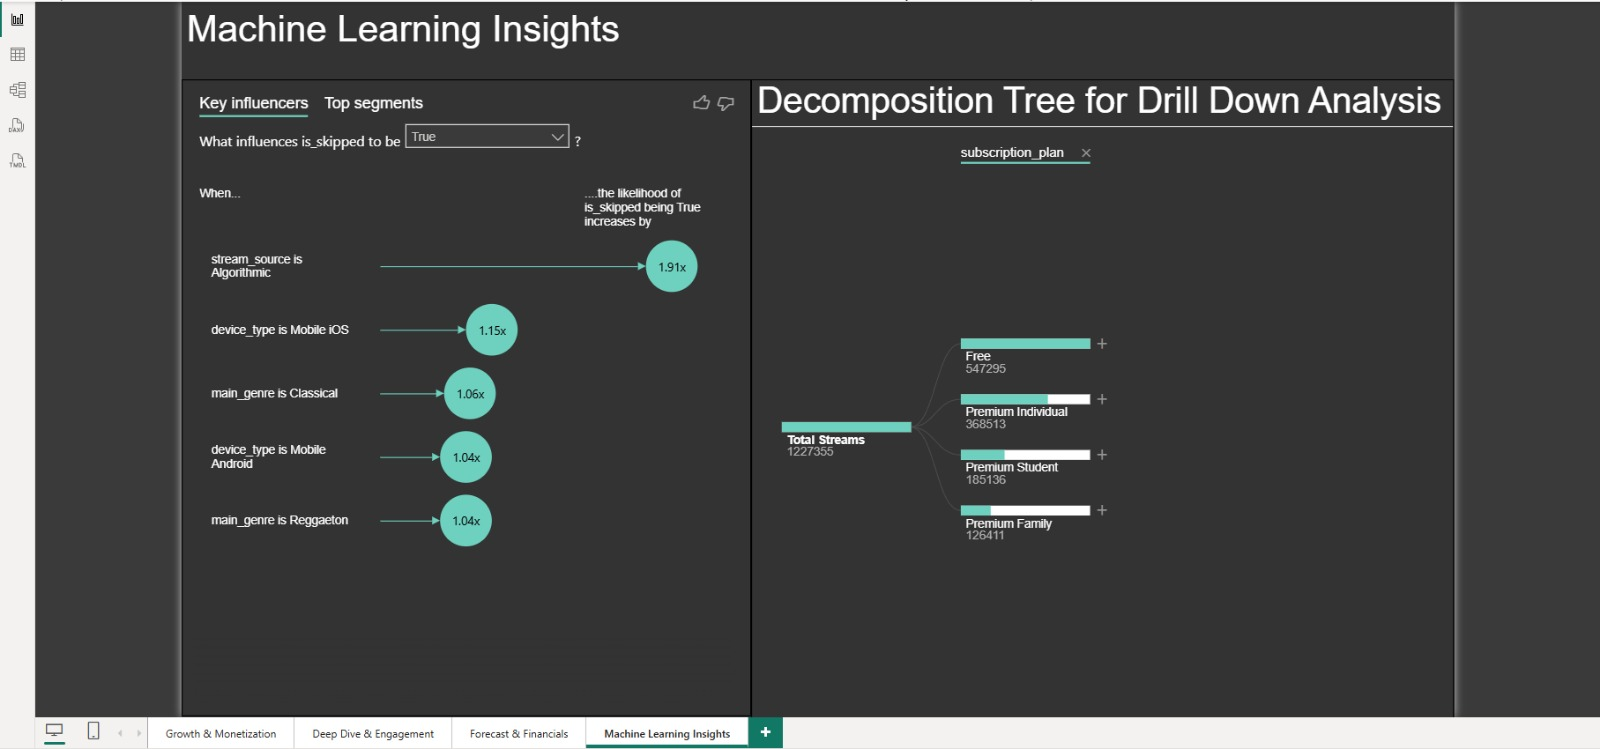

This screenshot's page, from the dashboard's own definition file:
{"tool":"powerbi","page":{"name":"Machine Learning Insights","canvas":[1280,720],"ordinal":3},"visuals":[{"type":"keyDriversVisual","title":"Key Influencers","fields":{"ExplainBy":["D_Tracks.main_genre","Sum(D_Tracks.energy)","Sum(D_Tracks.bpm)","F_Streams.device_type","F_Streams.stream_source"],"Target":["F_Streams.is_skipped"]},"box":[0,78.2,573.1,641.4],"z":0},{"type":"decompositionTreeVisual","title":"Decomposition Tree for Drill Down Analysis","fields":{"Analyze":["F_Streams.Total Streams"],"ExplainBy":["D_Users.subscription_plan","D_Platform.service_name","D_Users.country","F_Streams.stream_source"]},"box":[573,78,707.4,642.9],"z":1000},{"type":"textbox","box":[0,0.9,1280.4,77.1],"z":2000}]}

Visuals, with their boxes on the page's 1280x720 design canvas (x1, y1, x2, y2). These are canvas units, not pixel positions in the 1600x749 screenshot, which may show the page scaled, cropped or inside an application window:
"Key Influencers" keyDriversVisual: 0, 78, 573, 720
"Decomposition Tree for Drill Down Analysis" decompositionTreeVisual: 573, 78, 1280, 721
textbox: 0, 1, 1280, 78
